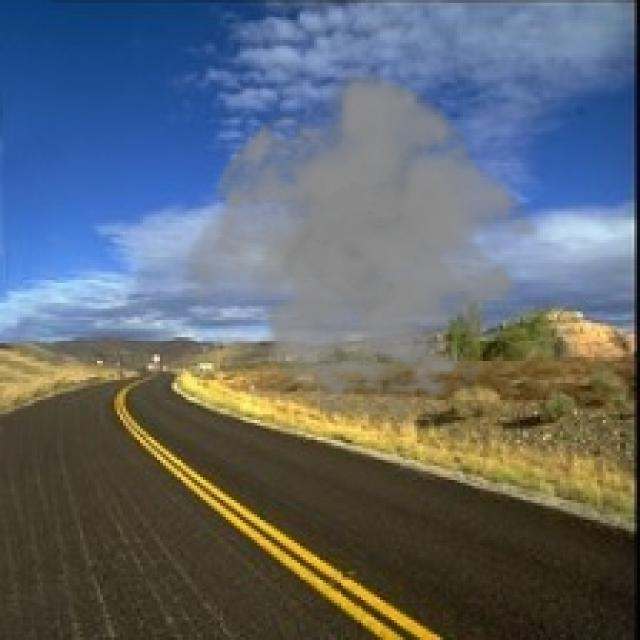smoke: (177, 66, 552, 420)
